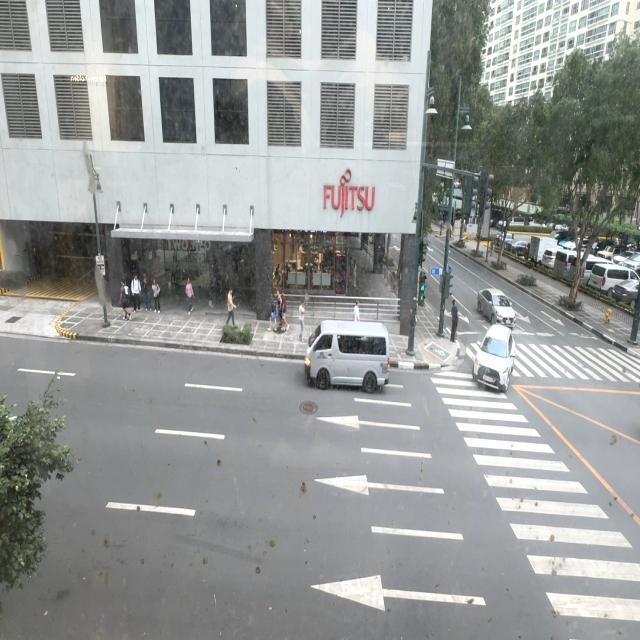waiting: (450, 297, 459, 341)
